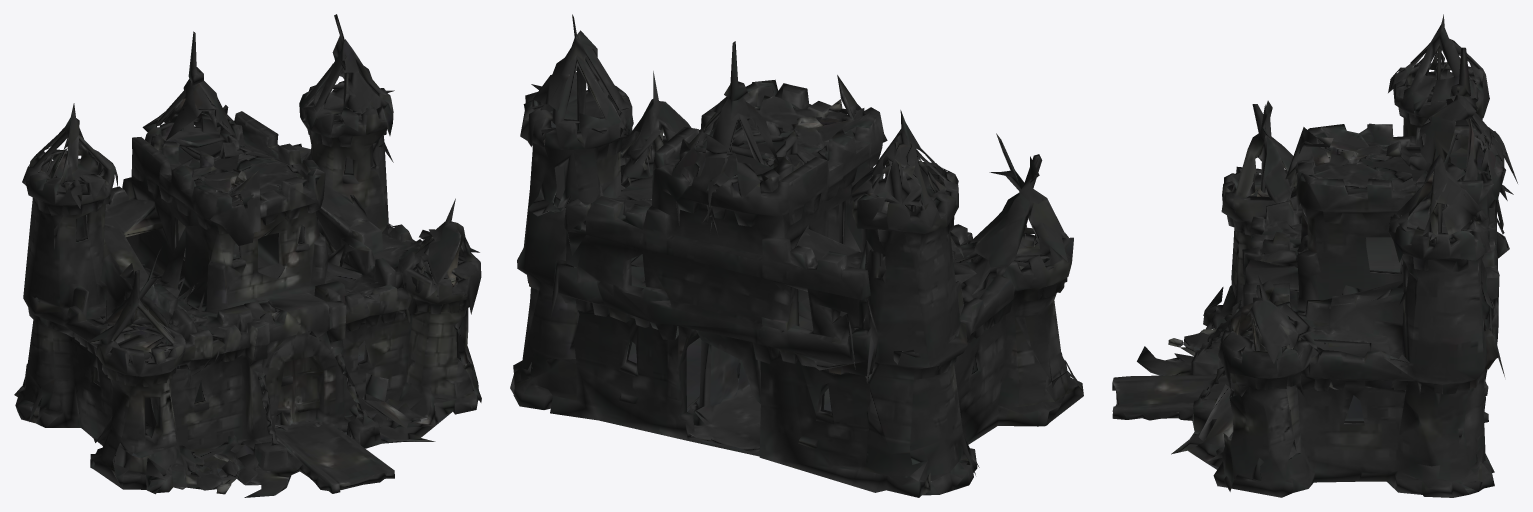
Rendered from poi_castle_ruin.glb.
The picture shows the model from 3 angles, left to right: view 1: azimuth 30°, elevation 25°; view 2: azimuth 150°, elevation 25°; view 3: azimuth 270°, elevation 25°; orthographic projection. The views are drawn at different scales.
Parts seen in each view (by area): view 1: Mesh_0; view 2: Mesh_0; view 3: Mesh_0.
Boxes of the visible parts, x1,y1,x2,y2 form: Mesh_0: [14, 14, 481, 497]; Mesh_0: [510, 14, 1083, 497]; Mesh_0: [1112, 14, 1517, 497].
Bounding box in the file's own units: 1.89 × 1.54 × 1.61.
1 material, 1 textured.
